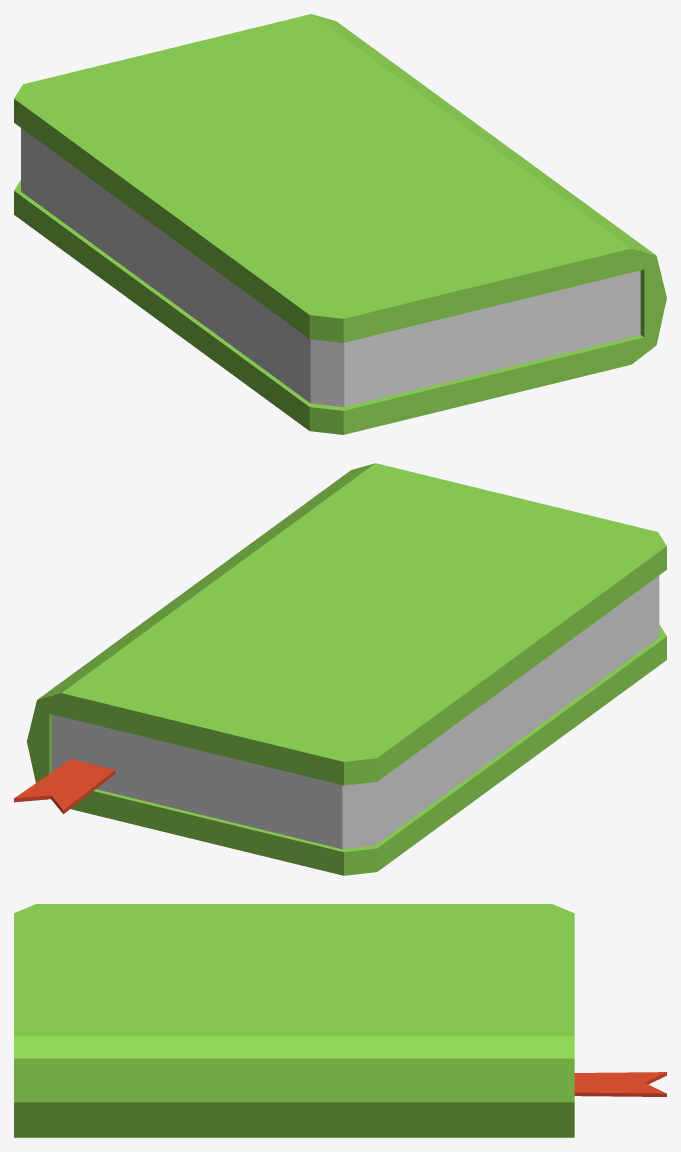
Rendered from book.01.fbx.
The picture shows the model from 3 angles, top to bottom: view 1: azimuth 30°, elevation 25°; view 2: azimuth 150°, elevation 25°; view 3: azimuth 270°, elevation 25°; orthographic projection. The views are drawn at different scales.
Visible parts, largest first — view 1: book.01; view 2: book.01; view 3: book.01.
Boxes of the visible parts, <box> form: book.01: <box>14,14,666,434</box>; book.01: <box>14,463,666,875</box>; book.01: <box>14,904,666,1137</box>.
Bounding box in the file's own units: 0.2611 × 0.084 × 0.4894.
